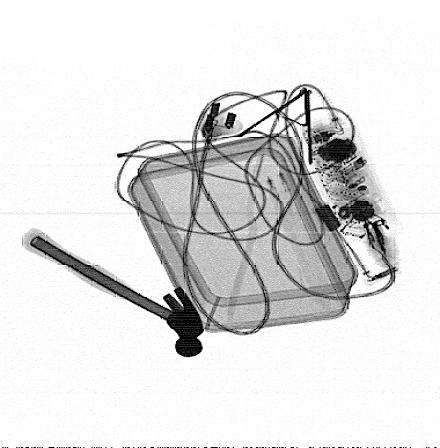Hammer: (21, 227, 205, 359)
